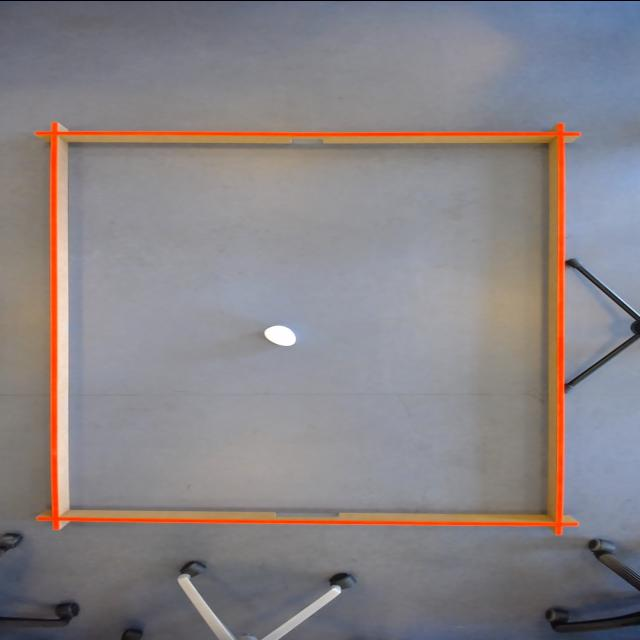egg: (262, 322, 300, 347)
